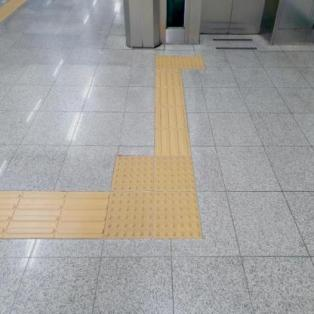Podoctatil: (97, 139, 225, 261), (0, 182, 104, 239), (154, 71, 189, 155), (156, 54, 206, 72)
